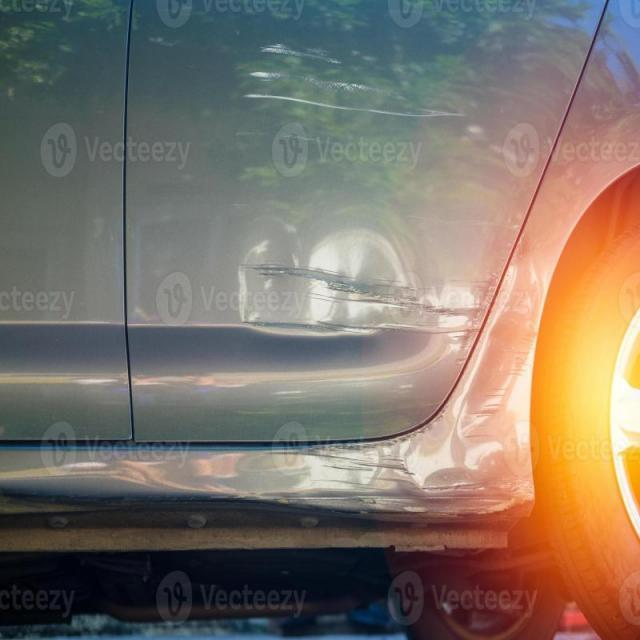dent: (236, 220, 442, 335)
